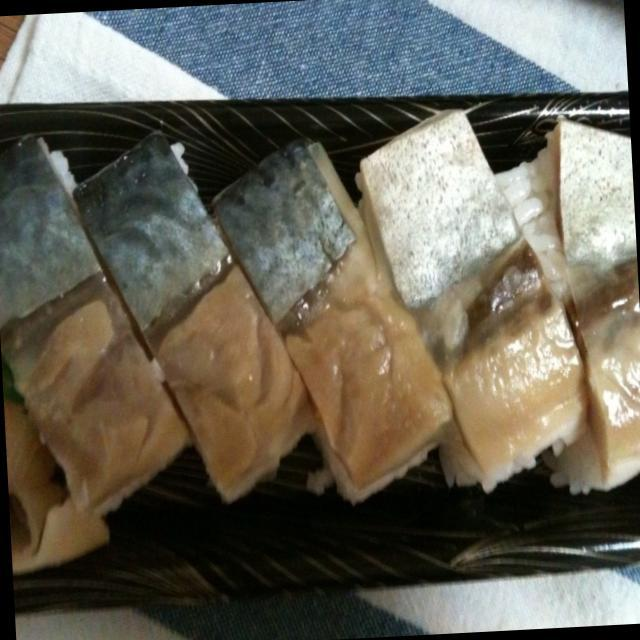Sushi: (0, 63, 640, 624)
